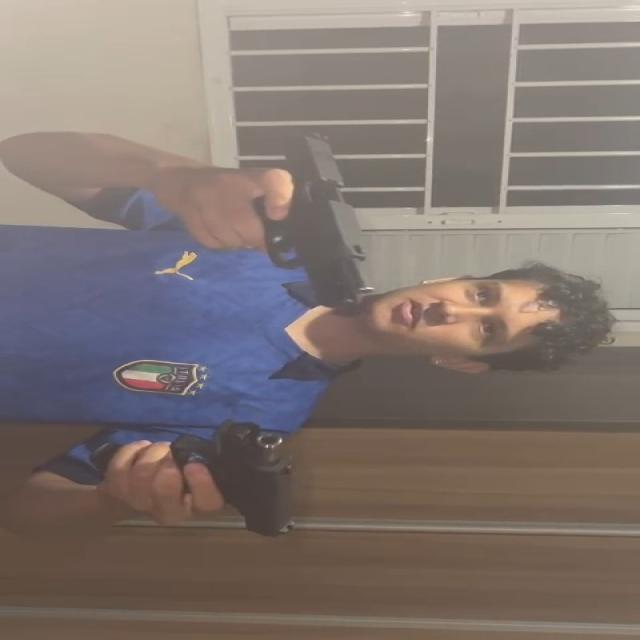gun: (255, 134, 373, 310), (172, 417, 296, 535)
